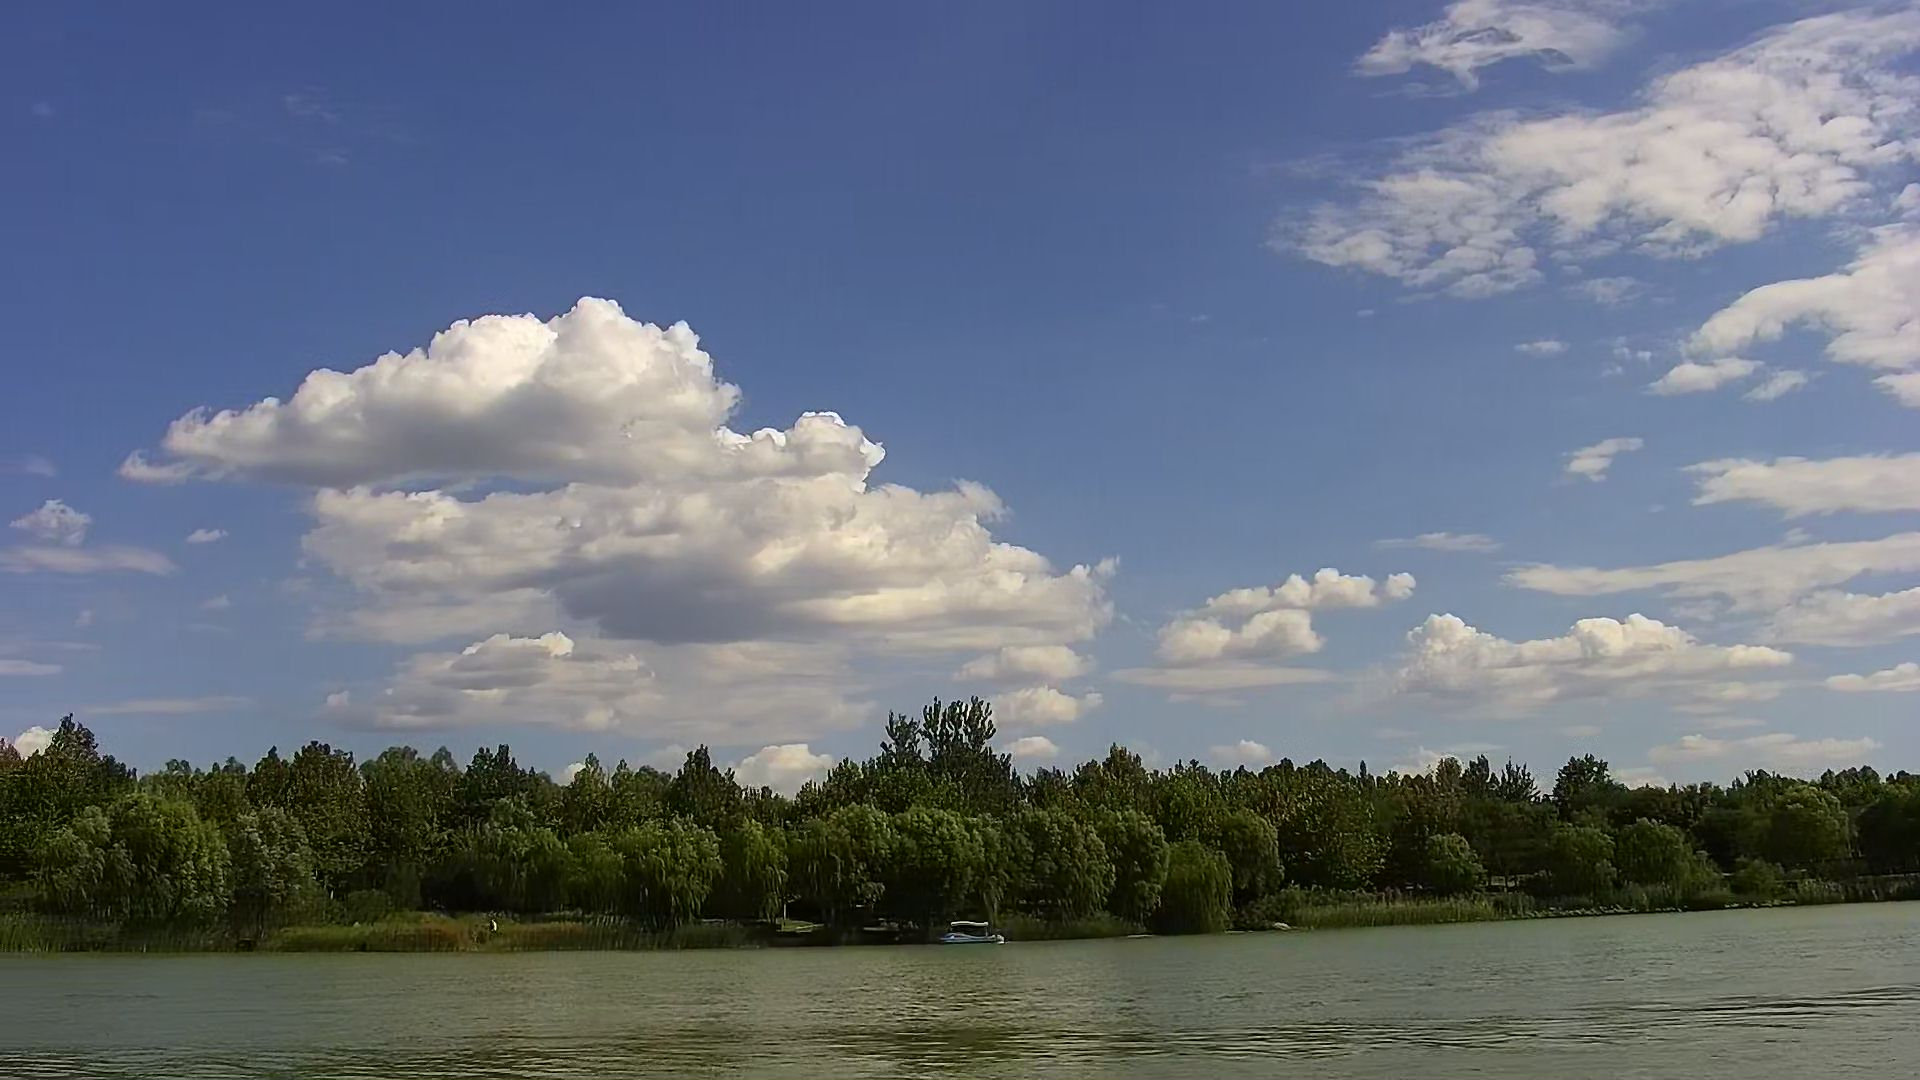boat: (935, 920, 1006, 948)
